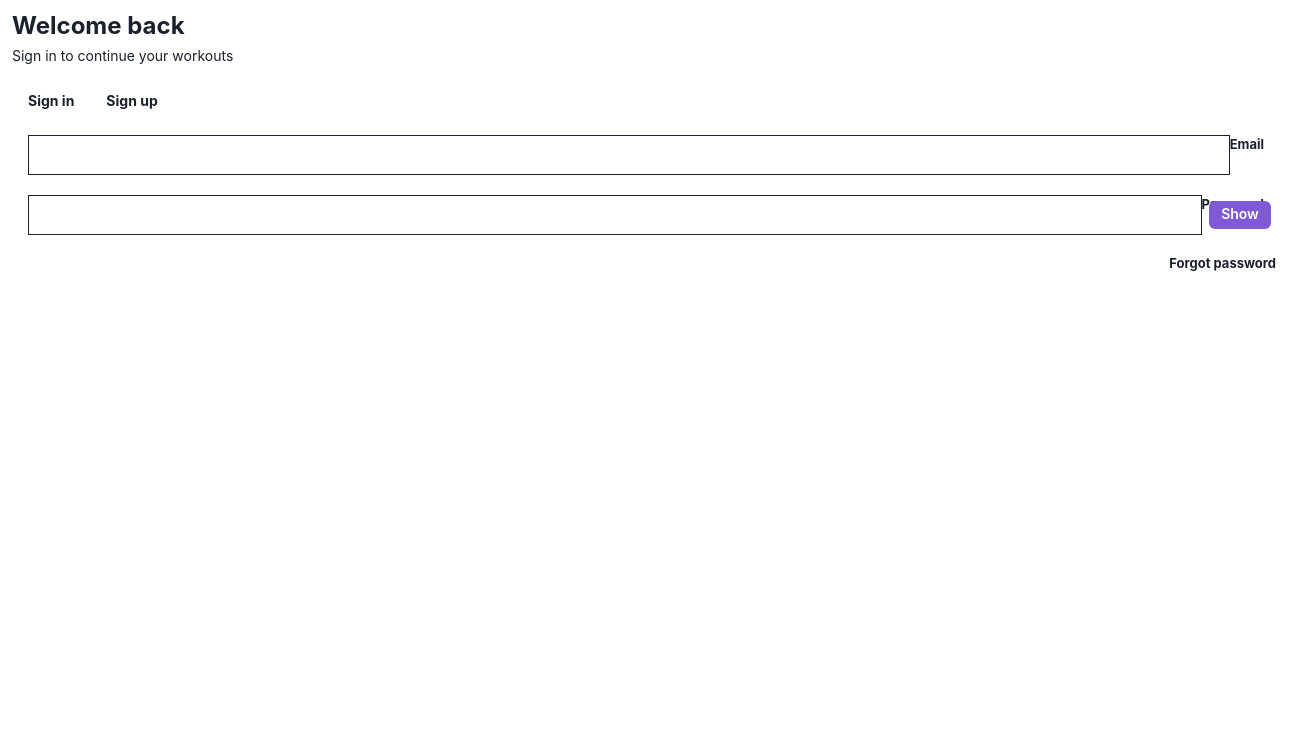
Test case: Page::Login › when the user not is authenticated › should render the login form and move to reset pass
Click the button "Forgot password": (1223, 263) [1169,255,1276,271]
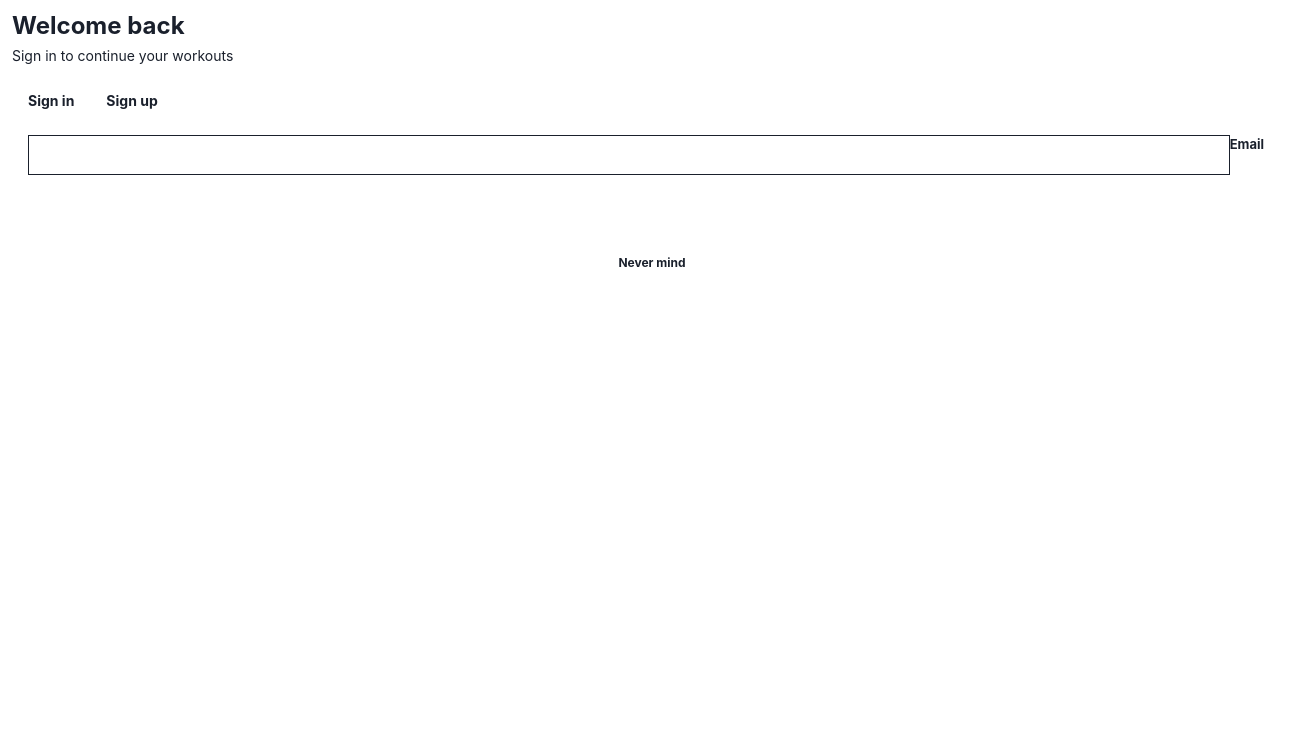
Check: the button "Never mind" is shown
Click the button "Never mind": (652, 262) [28,255,1276,270]
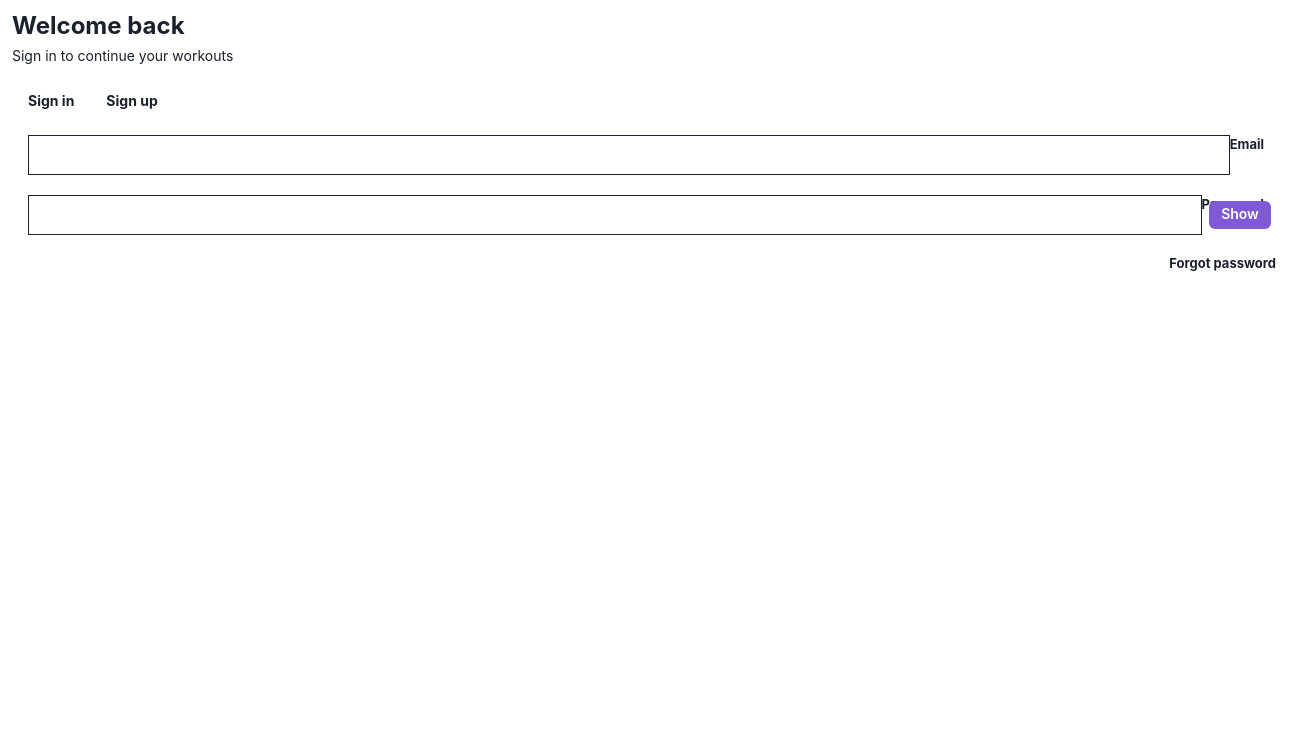
Note: than back to reset and call the reset function
Click the button "Forgot password": (1223, 263) [1169,255,1276,271]
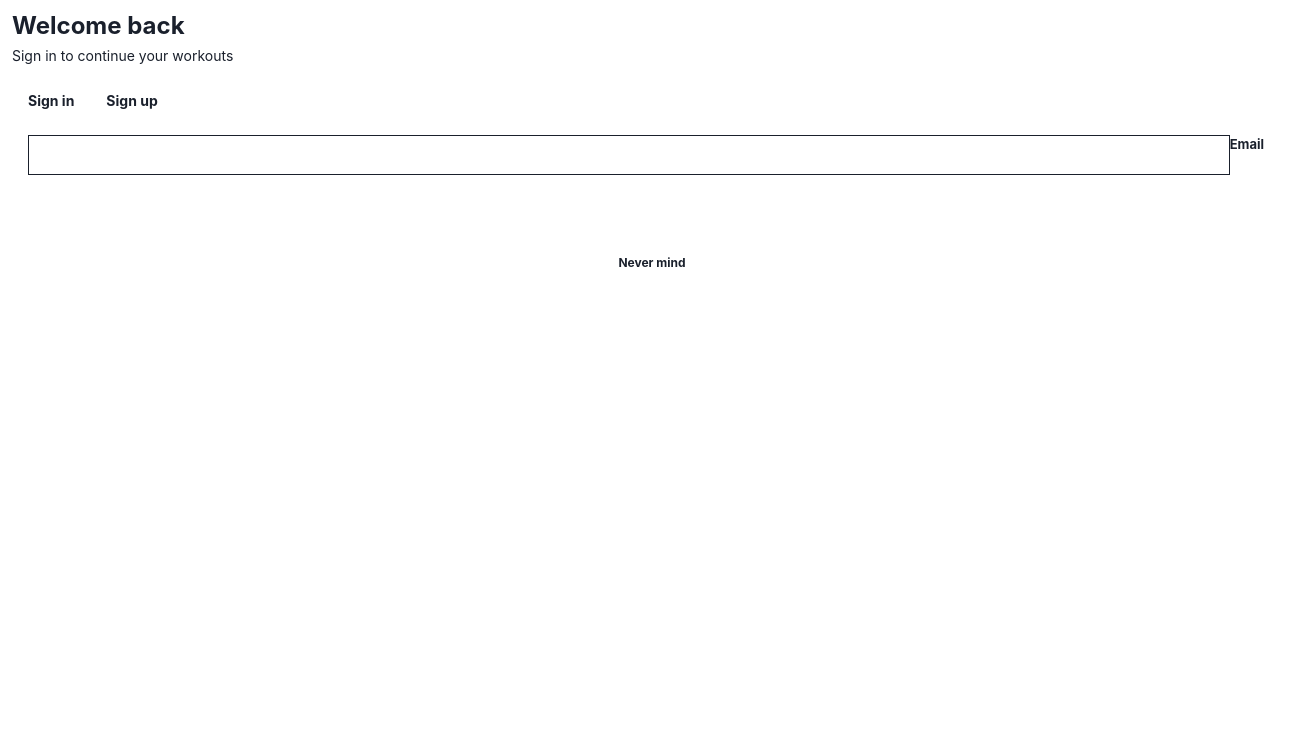
In the field labelled "Email": (629, 155) [28,135,1230,175], type "user@test.com"
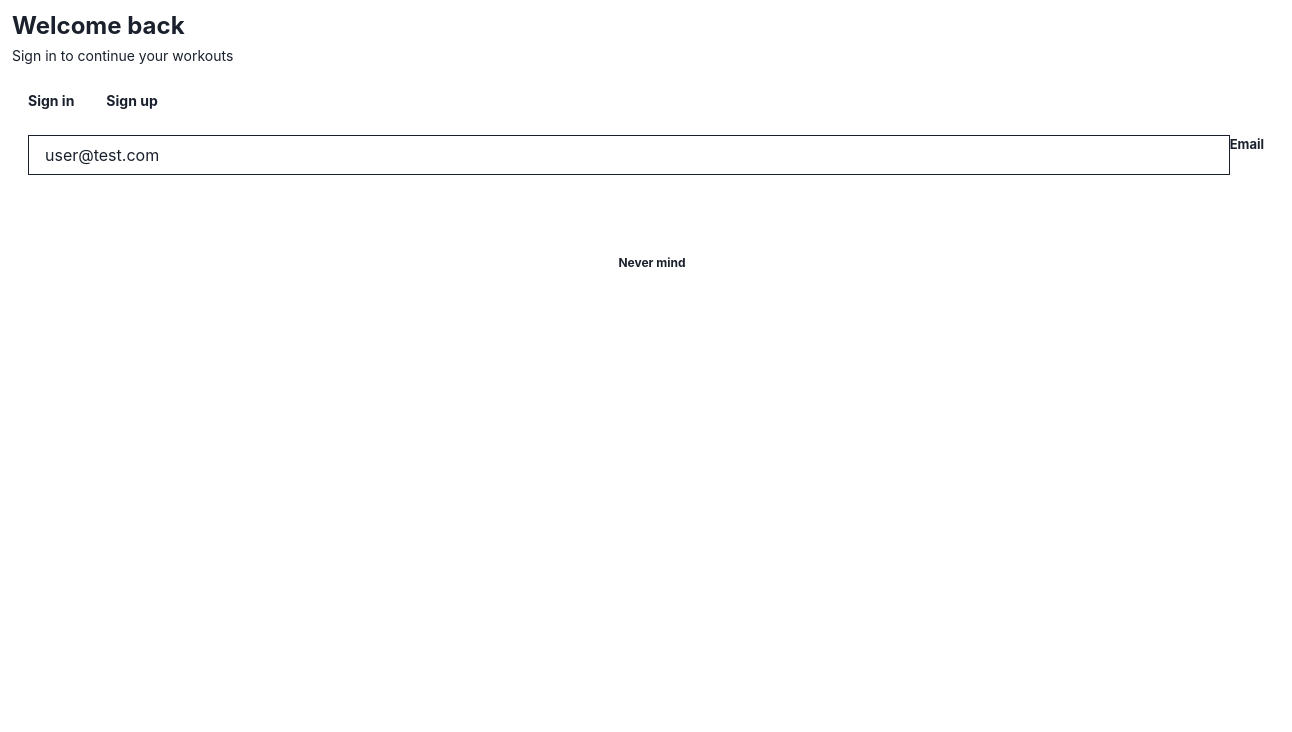
Submit the form, box [28,135,1276,270]
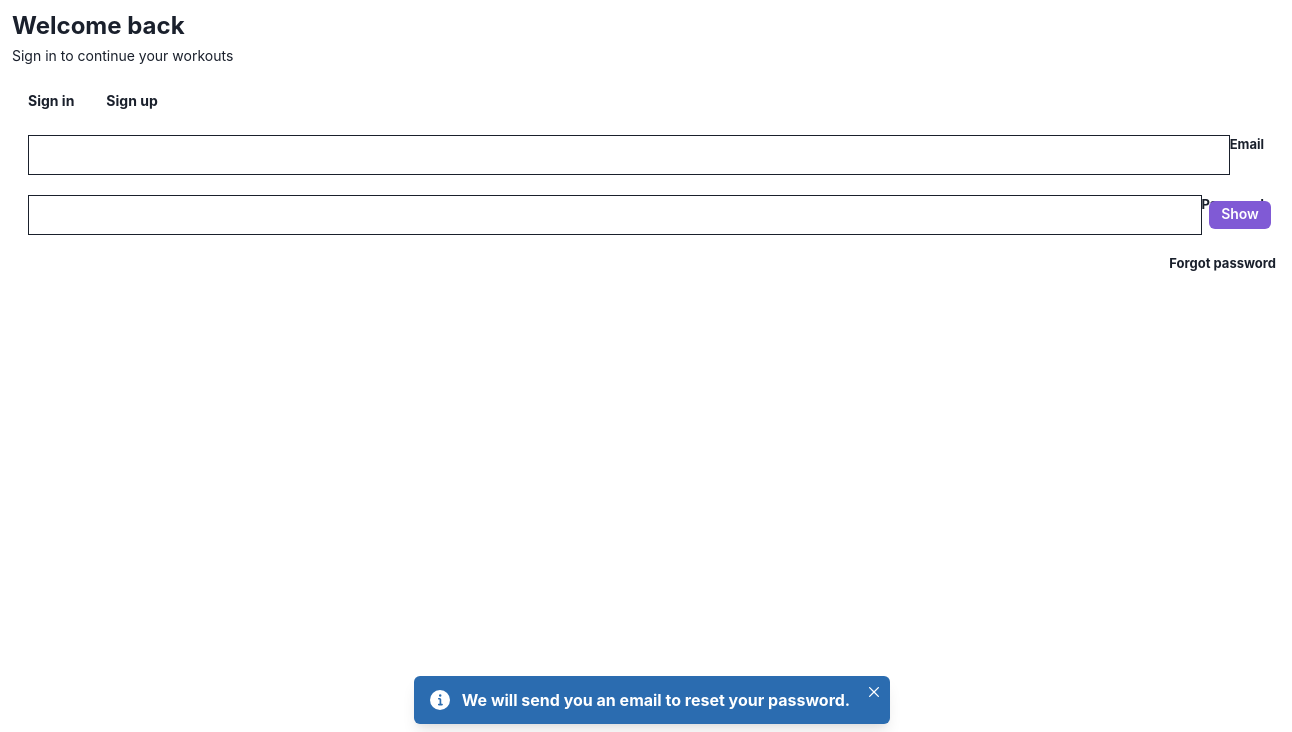
Check: the text "We will send you an email to reset your password." is shown, box [462,688,850,712]
